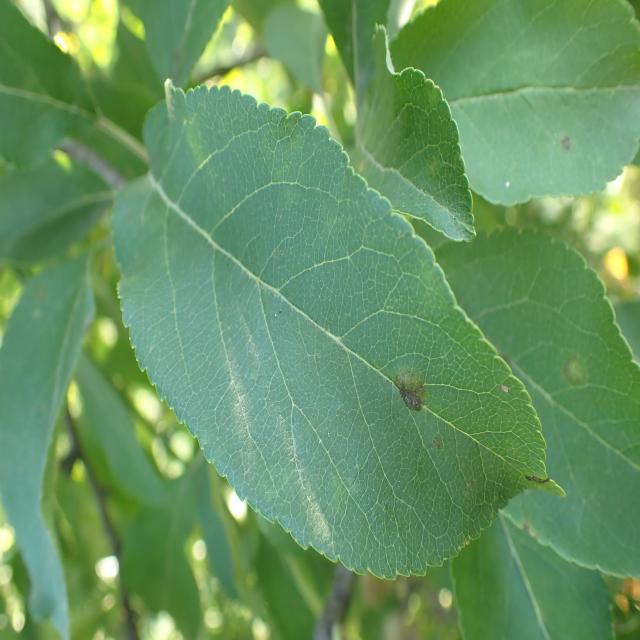scab: (176, 217, 520, 553), (500, 302, 625, 533), (537, 62, 584, 221)
